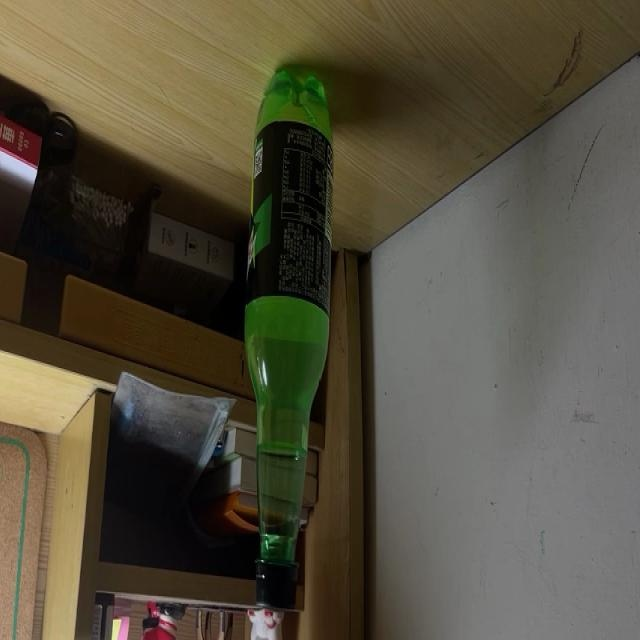Mountain-Dew: (243, 66, 335, 612)
